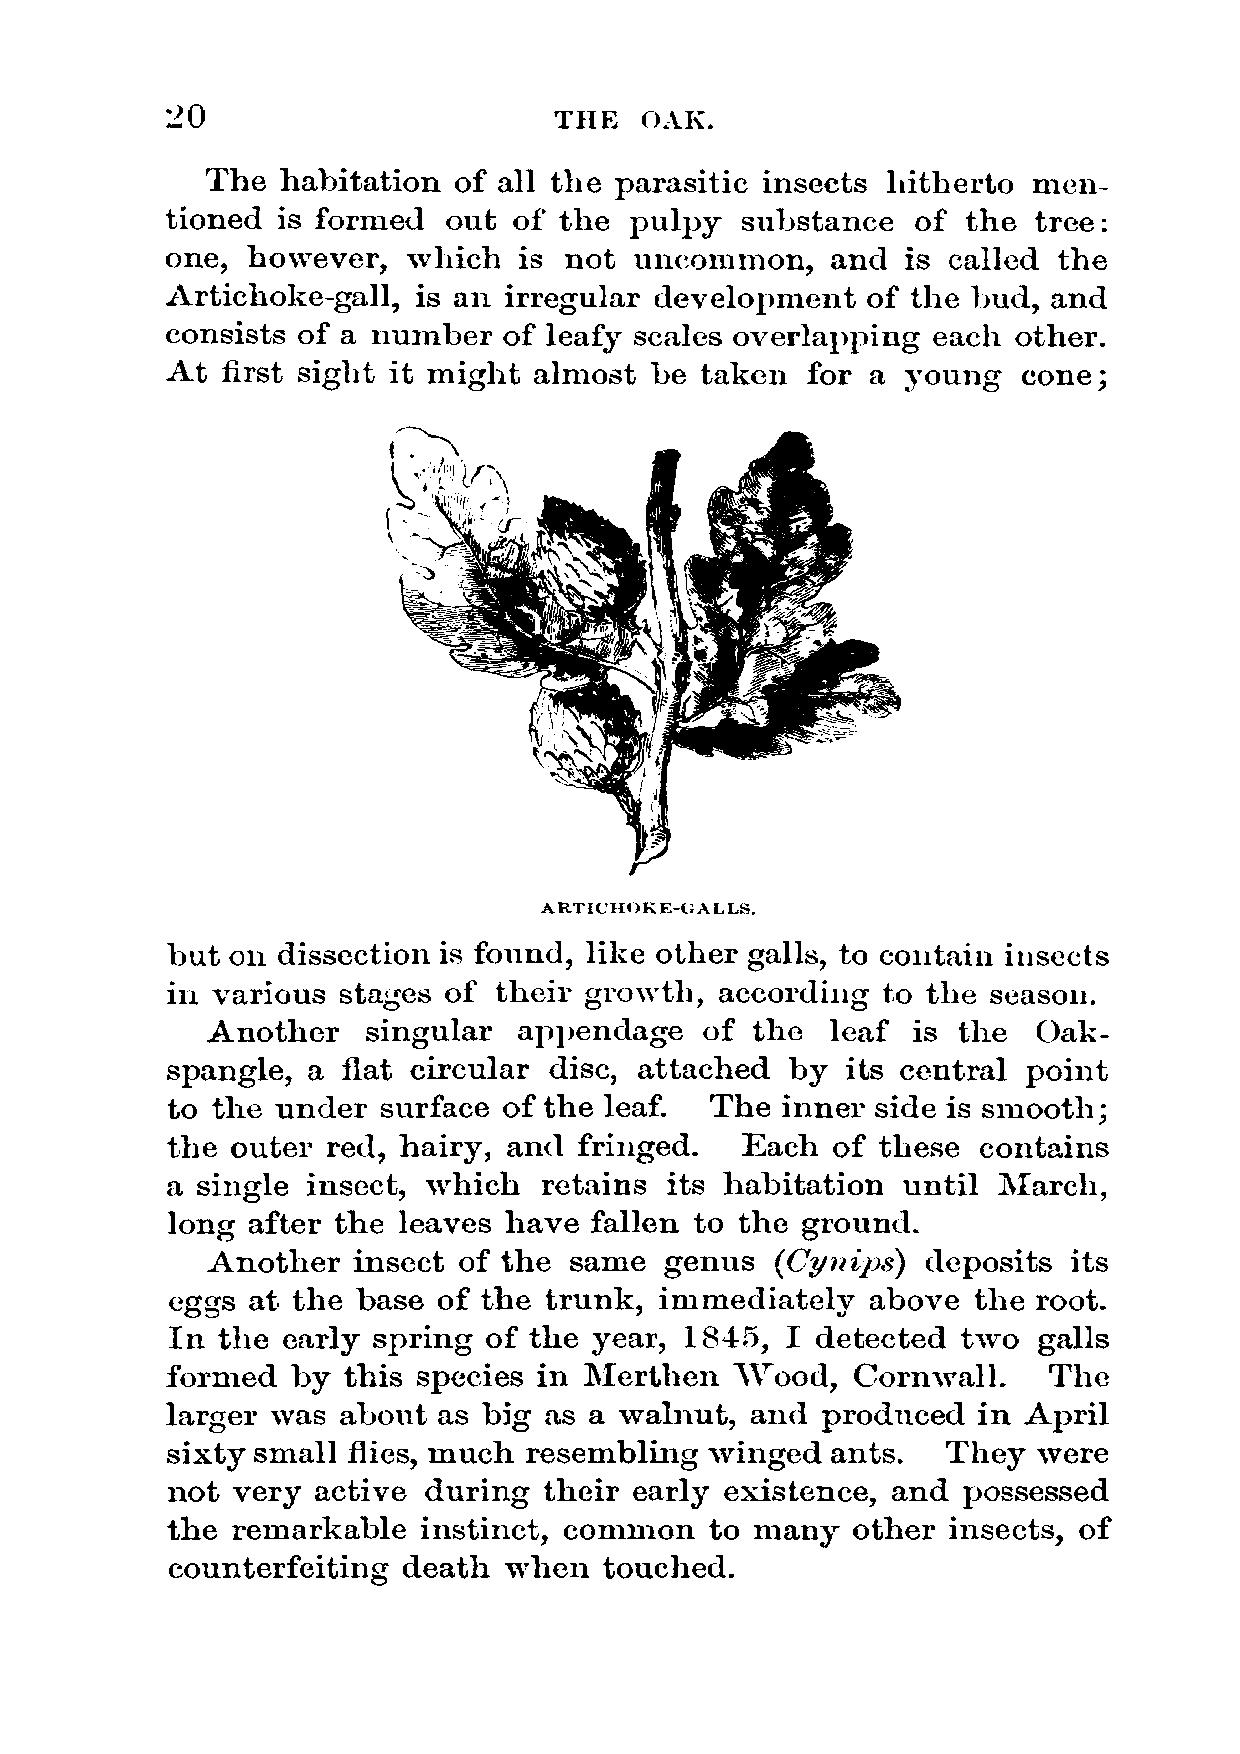content: (160, 160, 1117, 1589)
content_chapter: (552, 109, 715, 132)
content_pagenumber: (160, 95, 209, 138)
